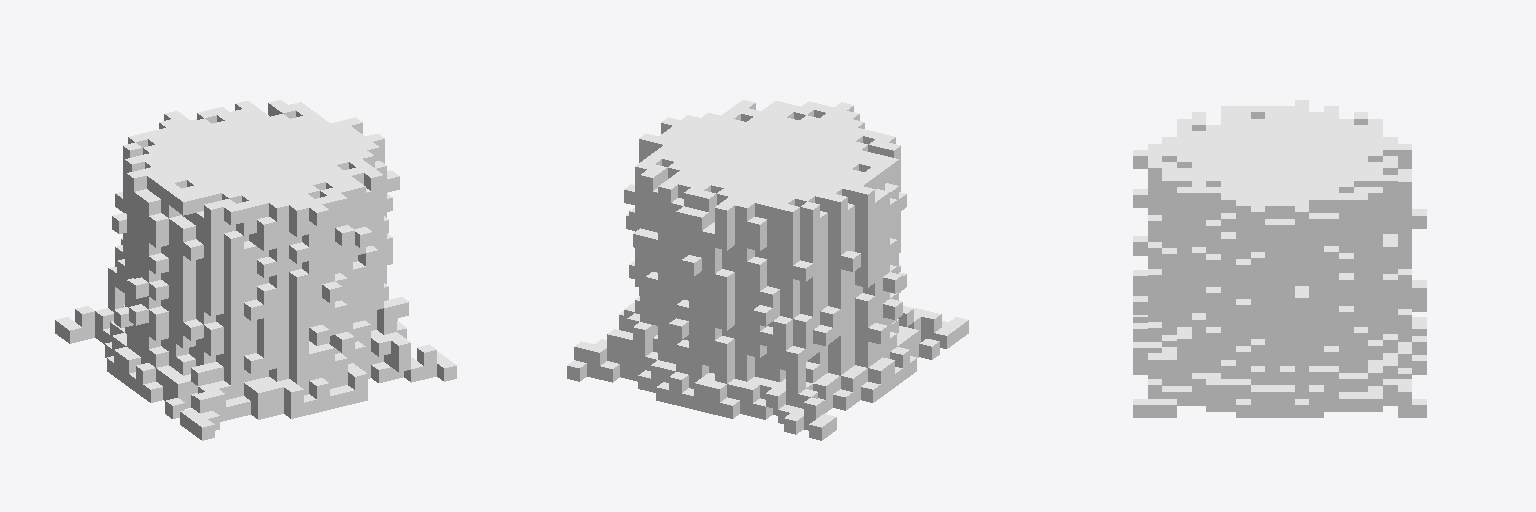
File: tronc.obj
The picture shows the model from 3 angles: view 1: azimuth 30°, elevation 25°; view 2: azimuth 150°, elevation 25°; view 3: azimuth 270°, elevation 25°; orthographic projection.
Visible parts, largest first — view 1: object 1; view 2: object 1; view 3: object 1.
Part boxes in pixels (bbox=[...]): object 1: bbox=[55, 100, 456, 440]; object 1: bbox=[567, 100, 968, 440]; object 1: bbox=[1133, 100, 1426, 417].
Bounding box in the file's own units: 2 × 1.5 × 2.